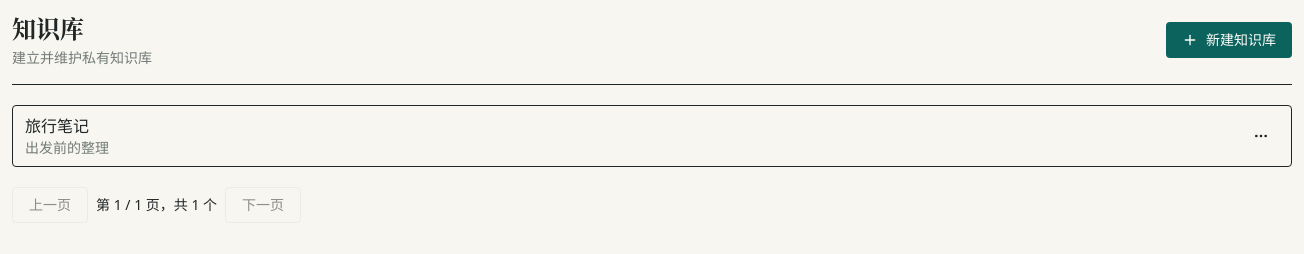
Test case: 知识库进入资料工作区 › 知识库的编辑与删除收进带可访问名称的次级操作菜单
Check: the link "旅行笔记" is shown, box [25, 115, 89, 137]
Click the button named "知识库操作 旅行笔记": {"x": 1261, "y": 136} [1243, 118, 1279, 154]
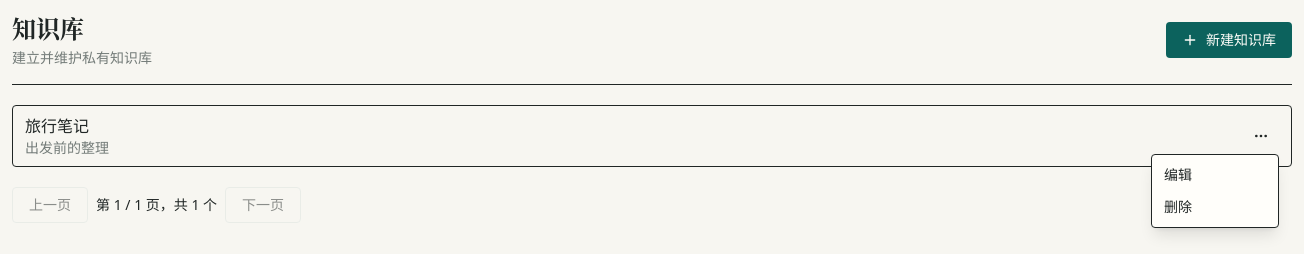
Check: the menu item "编辑" is shown, box [1164, 165, 1192, 184]
Check: the menu item "删除" is shown, box [1164, 197, 1192, 216]
